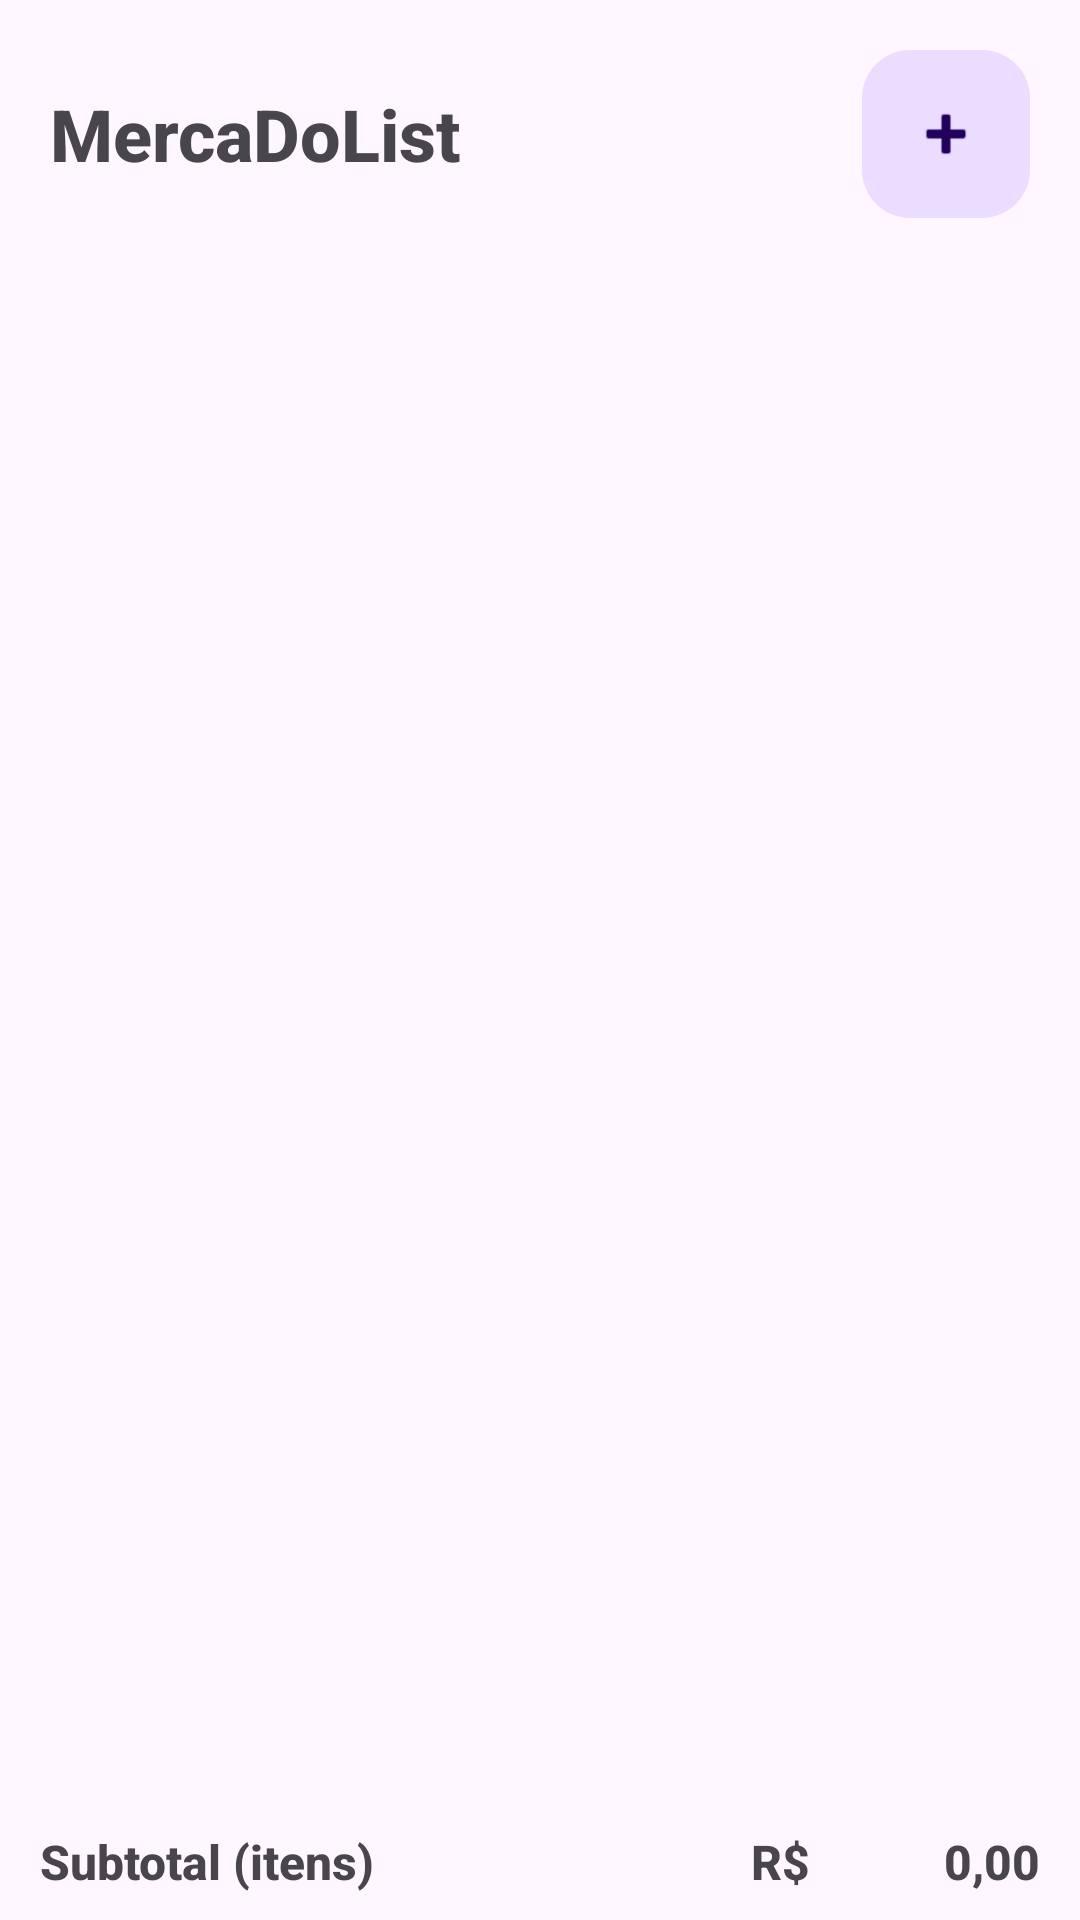

Where icons sit on this 1080×1920 app screen, as (x1, y1, x2, y2):
Adicionar: (862, 50, 1030, 218)
